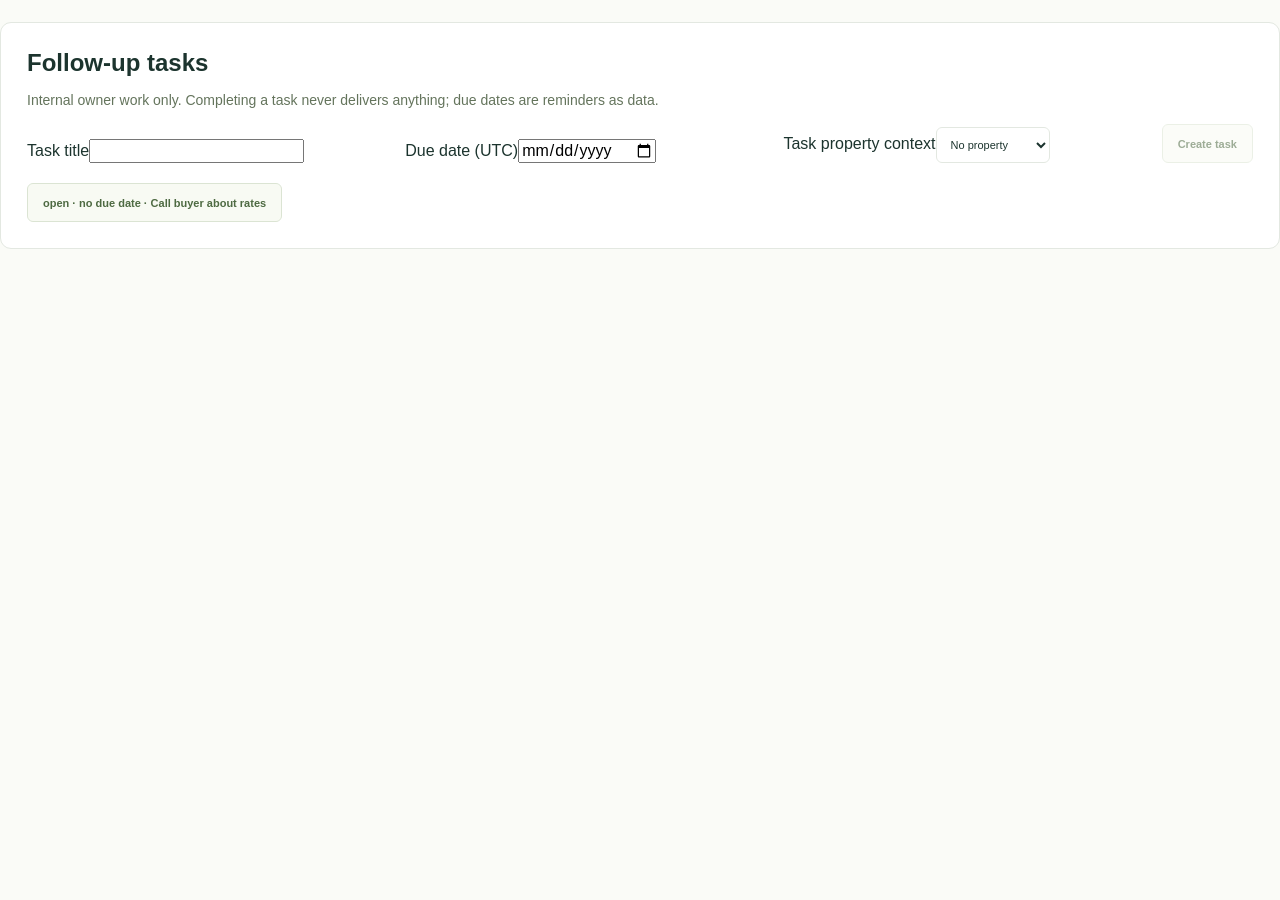
Test: shows meaningful revision history from snapshots
This screenshot has width=1280, height=900.
Click the button "open · no due date · Call buyer about rates": (155, 203) top-left (27, 183), bottom-right (282, 222)
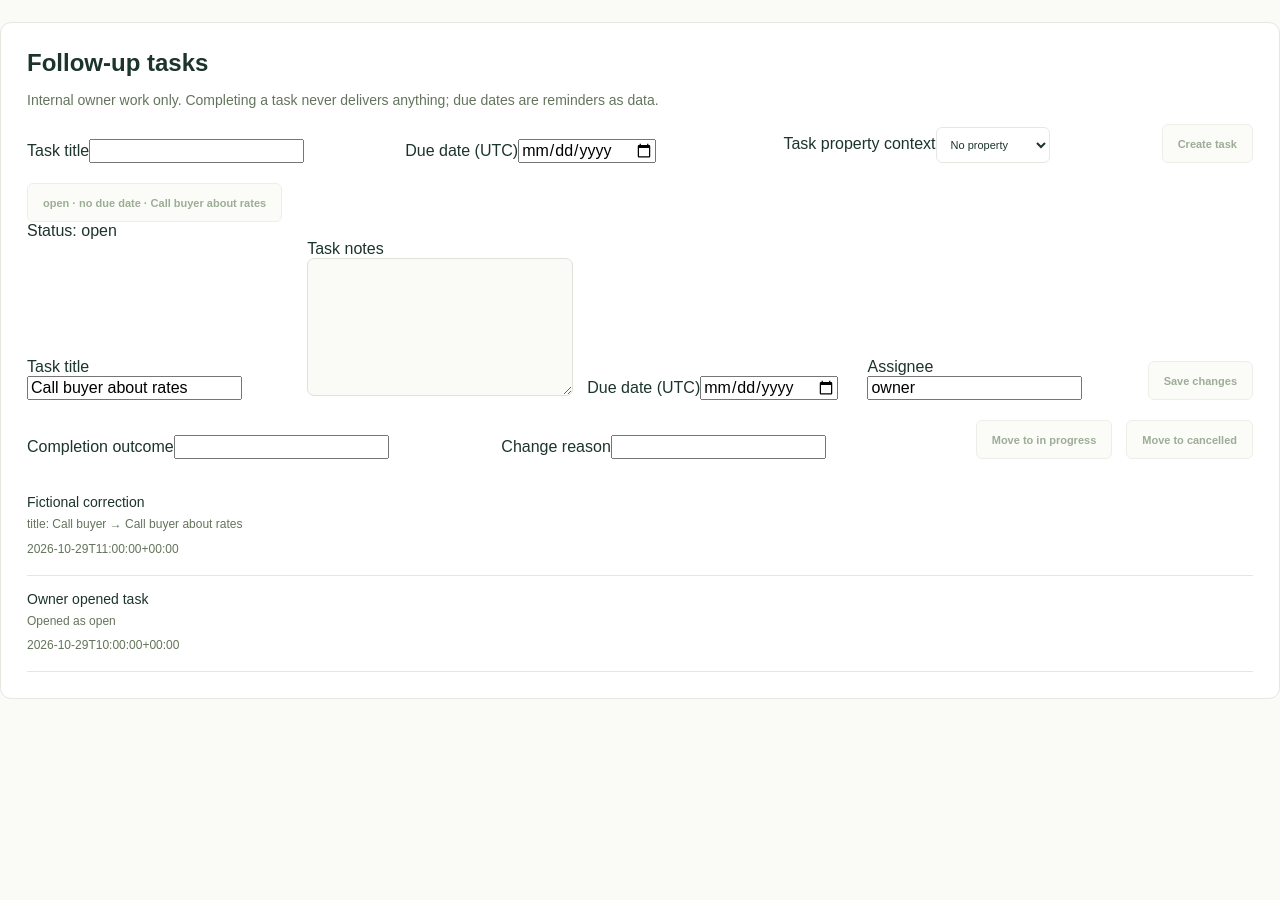
Result: the text "title: Call buyer → Call buyer about rates" is shown at top-left (27, 517), bottom-right (242, 531)
Result: the text "Opened as open" is shown at top-left (27, 614), bottom-right (116, 628)
